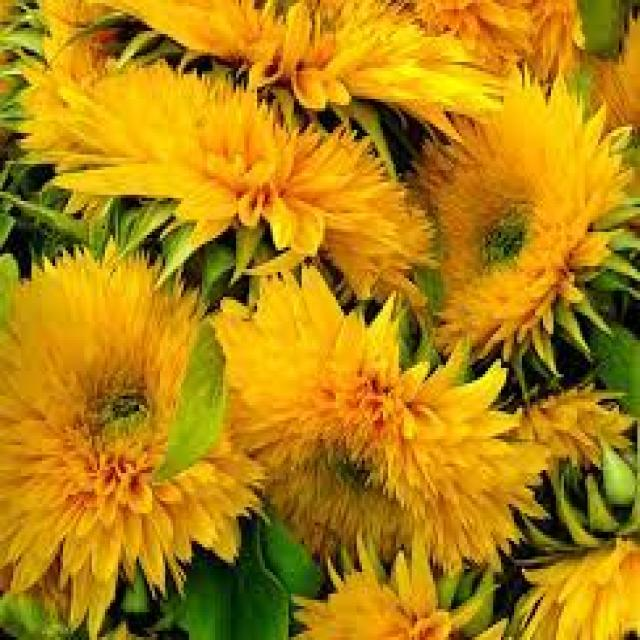sunflower: (202, 238, 553, 604), (0, 233, 274, 640), (43, 53, 437, 322), (387, 56, 640, 378), (0, 0, 212, 247), (283, 519, 489, 640), (496, 502, 640, 640), (475, 379, 640, 488), (556, 0, 640, 158)
